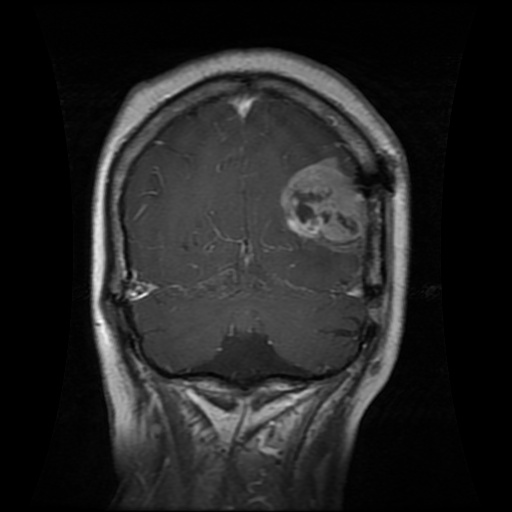glioma: (279, 153, 368, 255)
